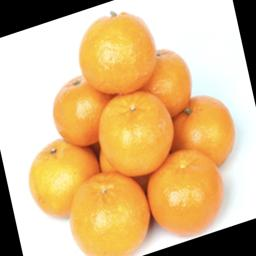Orange Fresh: (7, 12, 254, 252)
